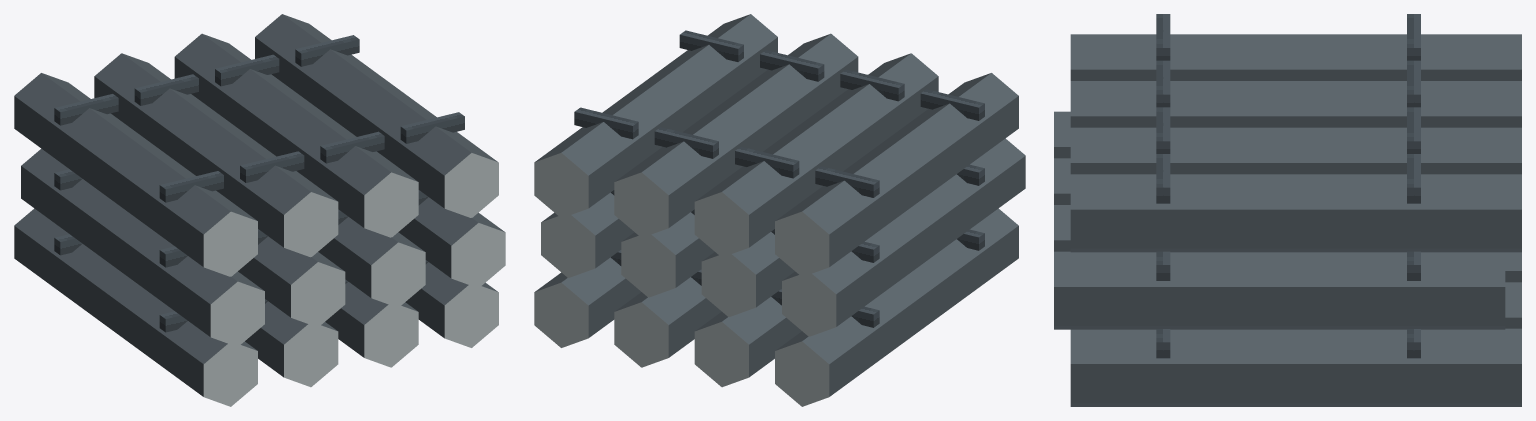
File: f_rebar_stack_short.glb
3 renders of one model, left to right at view 1: azimuth 30°, elevation 25°; view 2: azimuth 150°, elevation 25°; view 3: azimuth 270°, elevation 25°, orthographic. The views are drawn at different scales.
Visible parts, largest first — view 1: block_bundle-2--0.33, block_bundle-2-0.11, block_bundle-2--0.11, block_bundle-2-0.33, block_bundle-1--0.33, block_bundle-0--0.33, block_bundle-1--0.11, block_bundle-1-0.11, block_bundle-1-0.33, block_bundle-0--0.11, block_bundle-0-0.11, block_bundle-0-0.33 (+9 smaller); view 2: block_bundle-2--0.33, block_bundle-2--0.11, block_bundle-2-0.11, block_bundle-2-0.33, block_bundle-0--0.33, block_bundle-1--0.33, block_bundle-0--0.11, block_bundle-0-0.11, block_bundle-0-0.33, block_bundle-1-0.11, block_bundle-1--0.11, block_bundle-1-0.33 (+8 smaller); view 3: block_bundle-2-0.33, block_bundle-0-0.33, block_bundle-1-0.33, block_bundle-2-0.11, block_bundle-2--0.33, block_bundle-2--0.11, block_bundle-1--0.33, block_bundle-0-0.11, block_bundle-1--0.11, block_bundle-1-0.11, block_bundle-band-2-0.33-1, block_bundle-band-2--0.11-1 (+11 smaller).
Boxes of the visible parts, bbox=[...] form: block_bundle-2--0.33: bbox=[14, 73, 257, 276]; block_bundle-2-0.11: bbox=[174, 33, 418, 237]; block_bundle-2--0.11: bbox=[94, 53, 338, 257]; block_bundle-2-0.33: bbox=[255, 14, 498, 217]; block_bundle-1--0.33: bbox=[21, 148, 264, 346]; block_bundle-0--0.33: bbox=[14, 208, 257, 406]; block_bundle-1--0.11: bbox=[238, 236, 345, 327]; block_bundle-1-0.11: bbox=[318, 217, 425, 307]; block_bundle-1-0.33: bbox=[398, 197, 505, 288]; block_bundle-0--0.11: bbox=[245, 301, 338, 387]; block_bundle-0-0.11: bbox=[325, 282, 418, 367]; block_bundle-0-0.33: bbox=[405, 262, 498, 347]; block_bundle-2--0.33: bbox=[775, 73, 1018, 276]; block_bundle-2--0.11: bbox=[694, 53, 938, 257]; block_bundle-2-0.11: bbox=[614, 33, 858, 237]; block_bundle-2-0.33: bbox=[534, 14, 777, 218]; block_bundle-0--0.33: bbox=[775, 208, 1018, 406]; block_bundle-1--0.33: bbox=[782, 138, 1025, 336]; block_bundle-0--0.11: bbox=[694, 297, 801, 387]; block_bundle-0-0.11: bbox=[614, 277, 721, 367]; block_bundle-0-0.33: bbox=[534, 257, 640, 347]; block_bundle-1-0.11: bbox=[621, 212, 714, 297]; block_bundle-1--0.11: bbox=[701, 232, 794, 316]; block_bundle-1-0.33: bbox=[541, 192, 634, 277]; block_bundle-2-0.33: bbox=[1070, 174, 1521, 252]; block_bundle-0-0.33: bbox=[1070, 328, 1521, 406]; block_bundle-1-0.33: bbox=[1054, 251, 1505, 329]; block_bundle-2-0.11: bbox=[1070, 127, 1521, 174]; block_bundle-2--0.33: bbox=[1070, 34, 1521, 80]; block_bundle-2--0.11: bbox=[1070, 81, 1521, 127]; block_bundle-1--0.33: bbox=[1054, 111, 1070, 158]; block_bundle-0-0.11: bbox=[1505, 282, 1521, 328]; block_bundle-1--0.11: bbox=[1054, 158, 1070, 204]; block_bundle-1-0.11: bbox=[1054, 205, 1070, 251]; block_bundle-band-2-0.33-1: bbox=[1156, 154, 1170, 203]; block_bundle-band-2--0.11-1: bbox=[1156, 60, 1170, 107].
Bounding box in the file's own units: 0.82 × 0.5195 × 0.933.
Materials: 1 (1 with a texture image).
